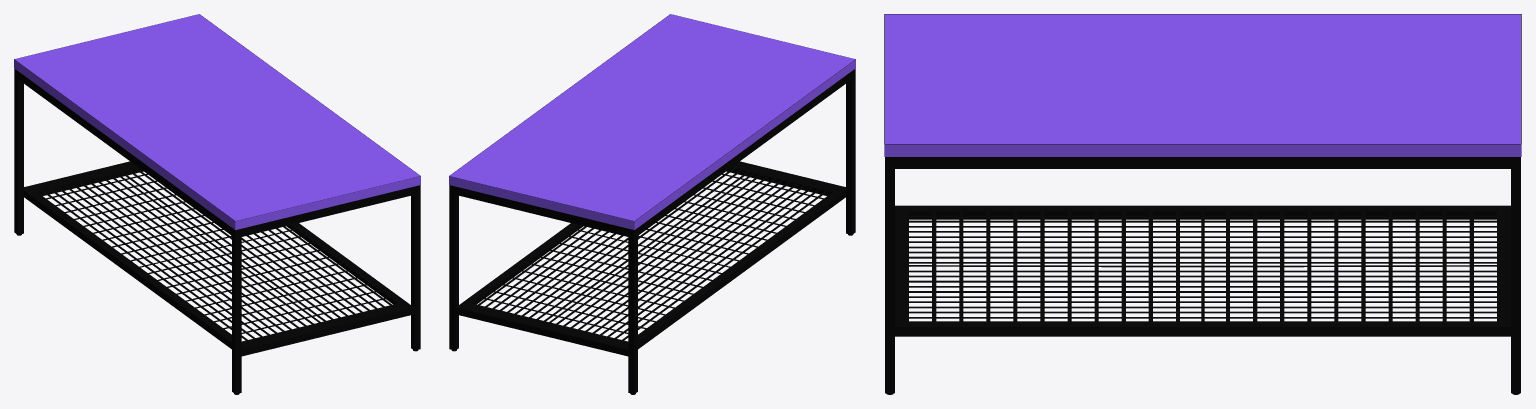
Rendered from coffee_table.glb.
The picture shows the model from 3 angles, left to right: view 1: azimuth 30°, elevation 25°; view 2: azimuth 150°, elevation 25°; view 3: azimuth 270°, elevation 25°; orthographic projection. The views are drawn at different scales.
Parts seen in each view (by area): view 1: Coffe Table; view 2: Coffe Table; view 3: Coffe Table.
Boxes of the visible parts, x1,y1,x2,y2 form: Coffe Table: (14,14,420,394); Coffe Table: (449,14,855,394); Coffe Table: (884,14,1521,394).
Bounding box in the file's own units: 0.969 × 0.872 × 2.
